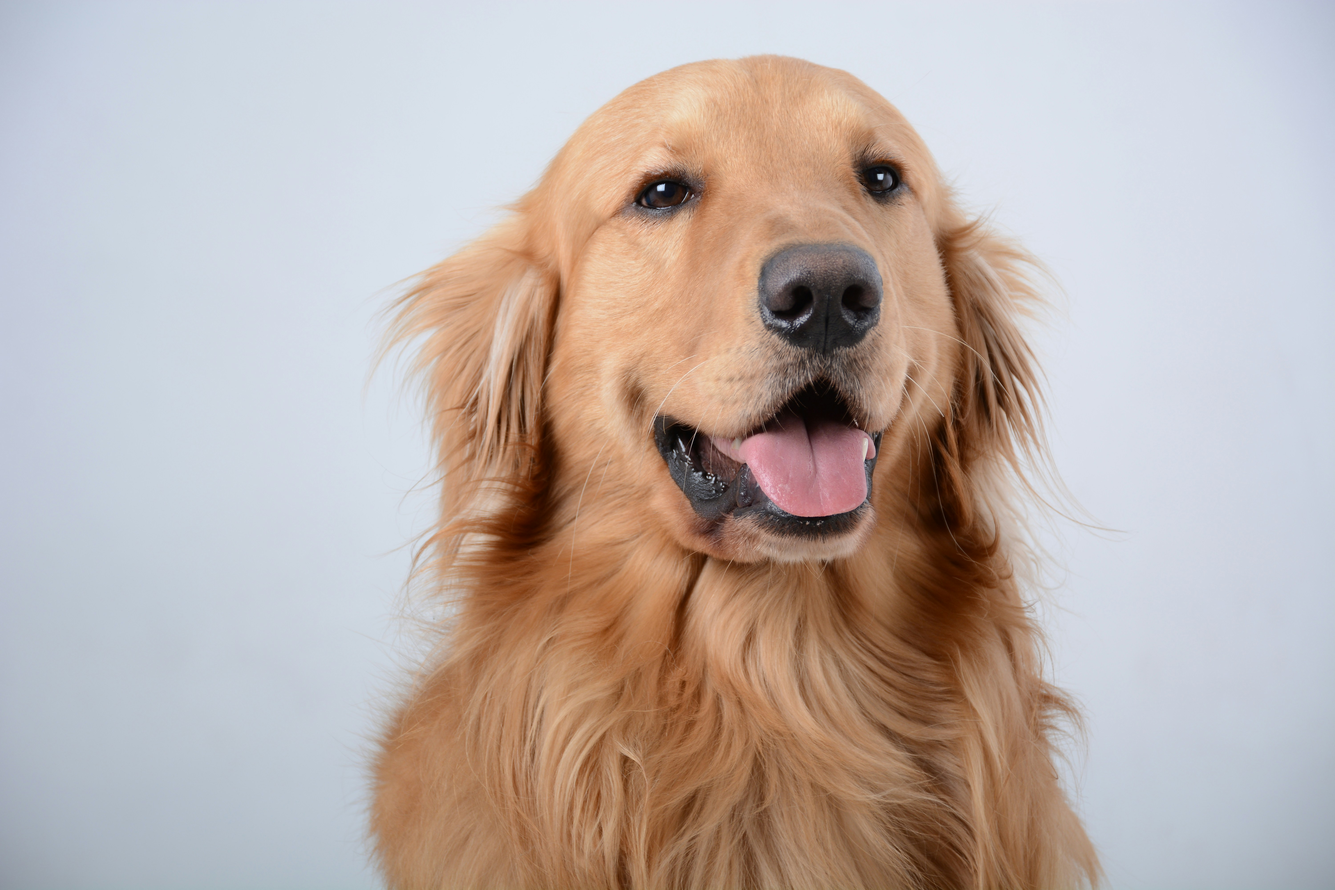dog-nose-detector: (753, 239, 887, 346)
